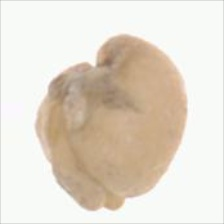L1: (84, 177, 146, 212)
L2: (34, 33, 188, 212)
